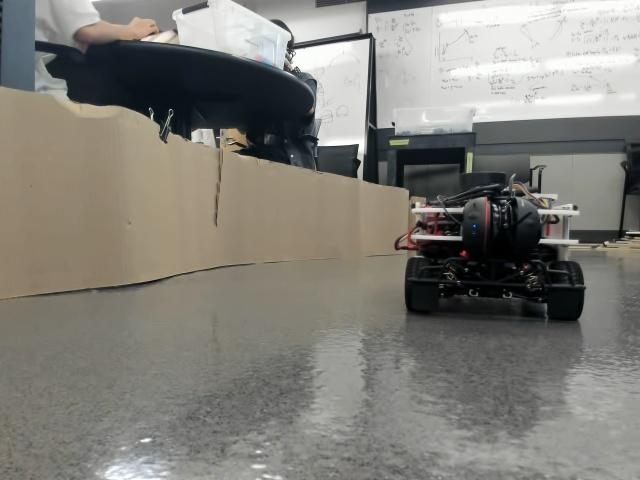Car: (403, 168, 586, 322)
